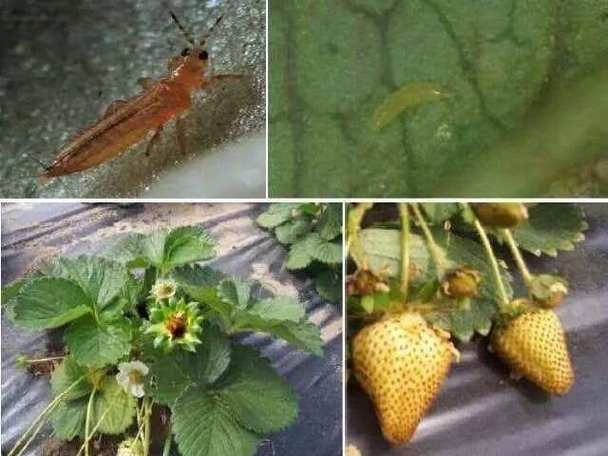Thripidae: (28, 9, 245, 190)
